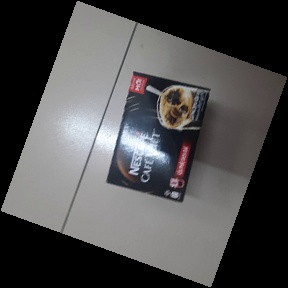CF Viet: (104, 70, 212, 203)
